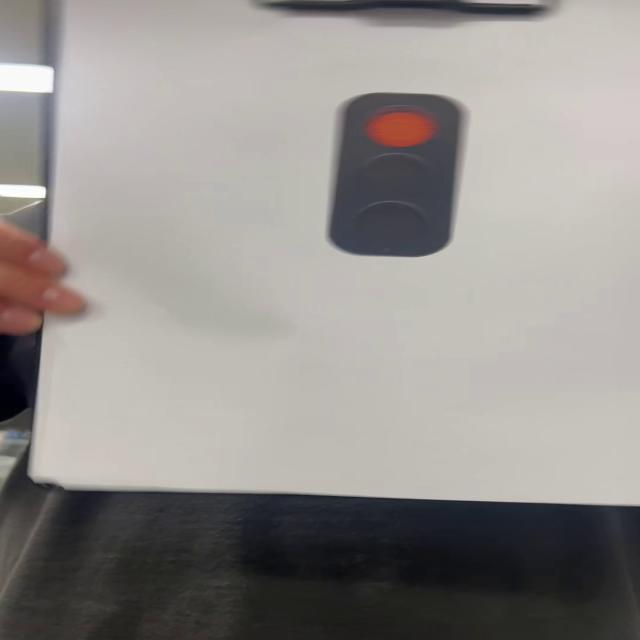red: (324, 92, 466, 257)
